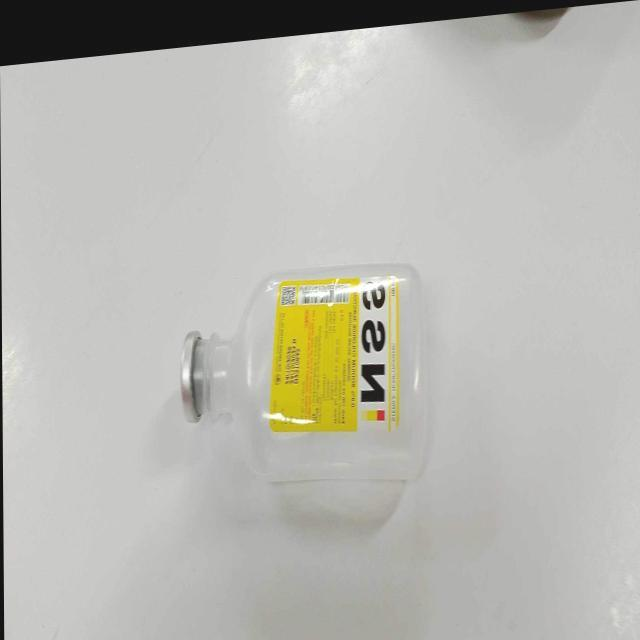General: (266, 272, 404, 436)
Sharps: (179, 260, 432, 525)
